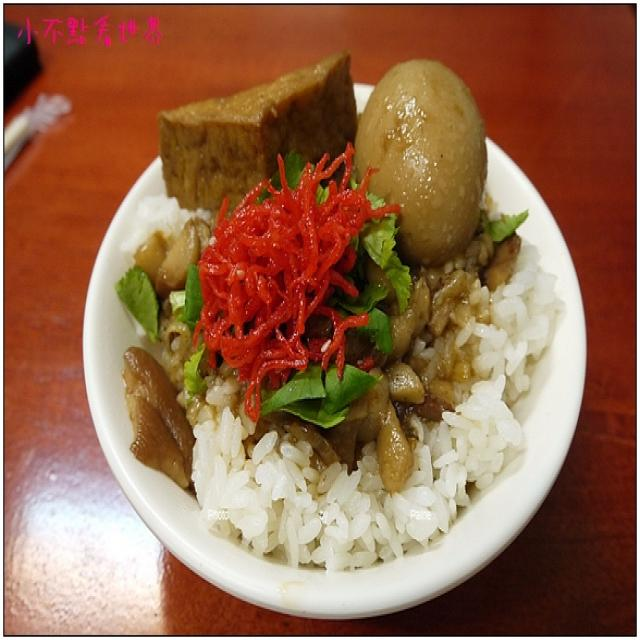猪肉菜式: (60, 44, 603, 625)
